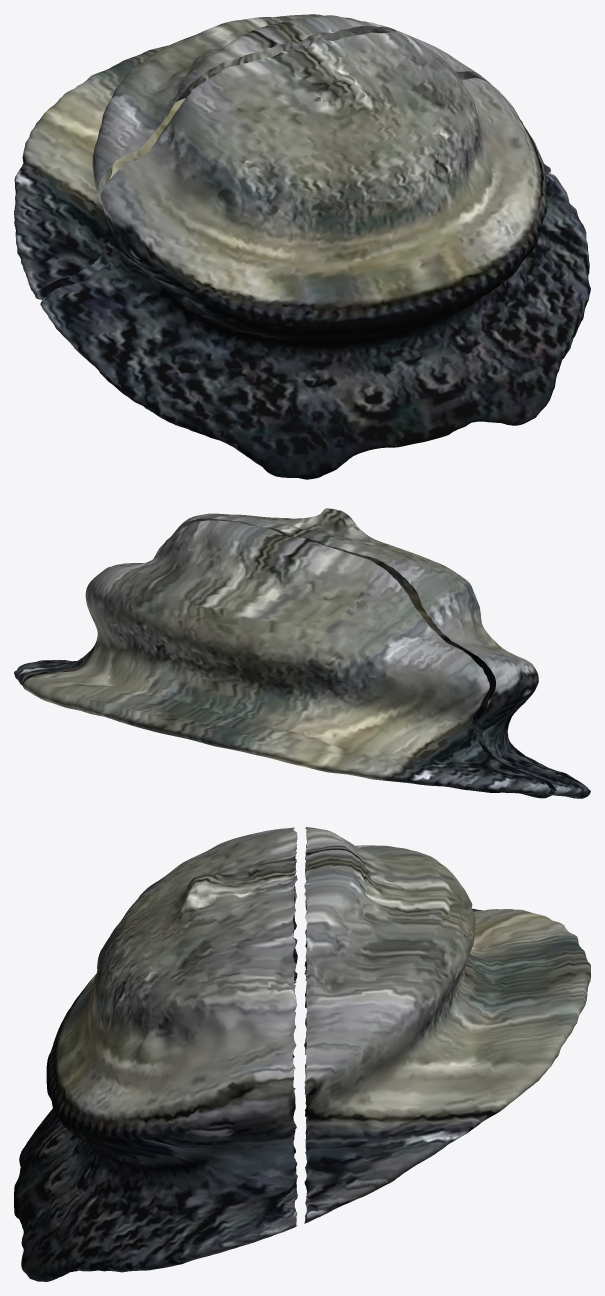
File: kfl-2152.glb
3 views of the same model, one above another, from view 1: azimuth 30°, elevation 25°; view 2: azimuth 150°, elevation 25°; view 3: azimuth 270°, elevation 25° (orthographic). The views are drawn at different scales.
Visible parts, largest first — view 1: geometry_0; view 2: geometry_0; view 3: geometry_0.
Part boxes in pixels (x1=…): geometry_0: x1=14, y1=14, x2=590, y2=479; geometry_0: x1=14, y1=508, x2=590, y2=798; geometry_0: x1=14, y1=827, x2=590, y2=1281.
Size of the model in its own units: 0.984 by 0.5926 by 0.8543.
1 material, 1 textured.
